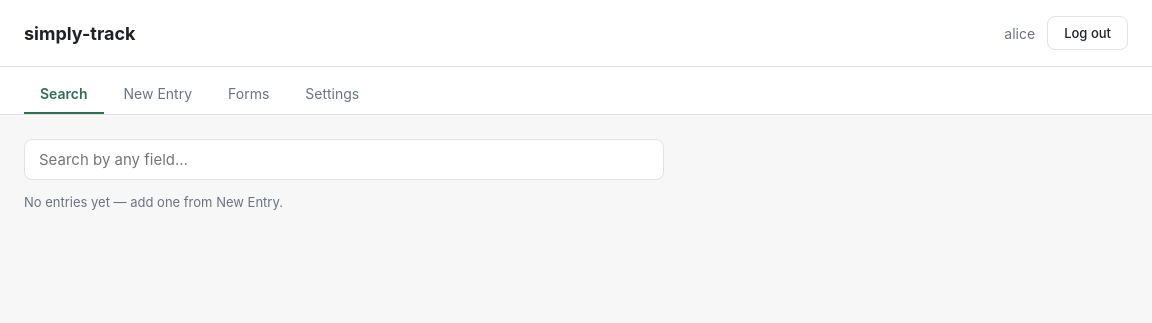
Test: Dashboard › switches sections when a nav tab is clicked
The width and height of the screenshot is (1152, 323).
Click the button "New Entry" at (158, 94), box [108,75,208,114]
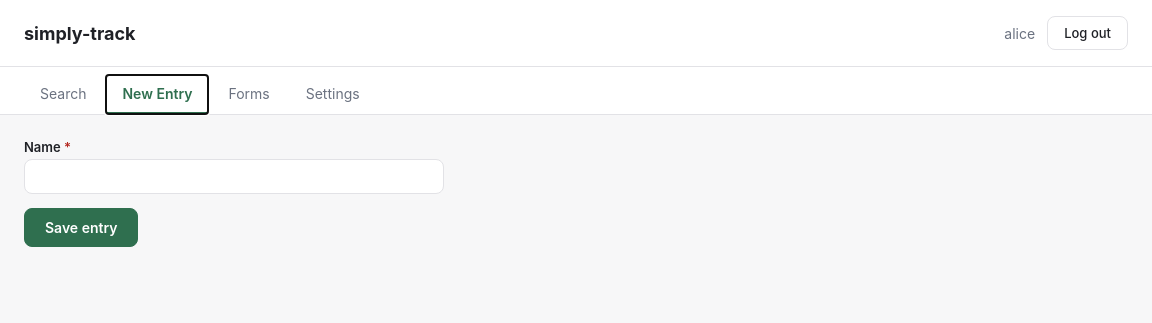
expect the field labelled "Name *" is shown: met, box [24,159,444,194]
Click the button "Forms" at (249, 94), box [212,75,286,114]
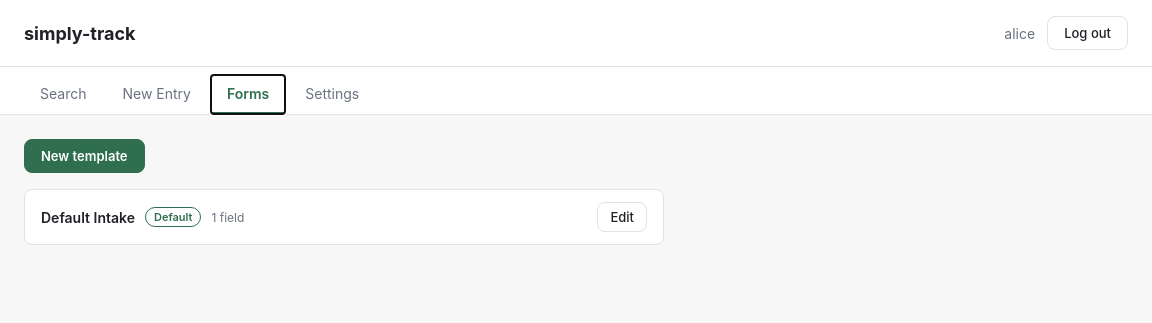
expect the button "New template" is shown: met, box [24,139,144,173]
expect the text "Default Intake" is shown: met, box [41,208,135,226]
Click the button "Settings" at (332, 94), box [289,75,375,114]
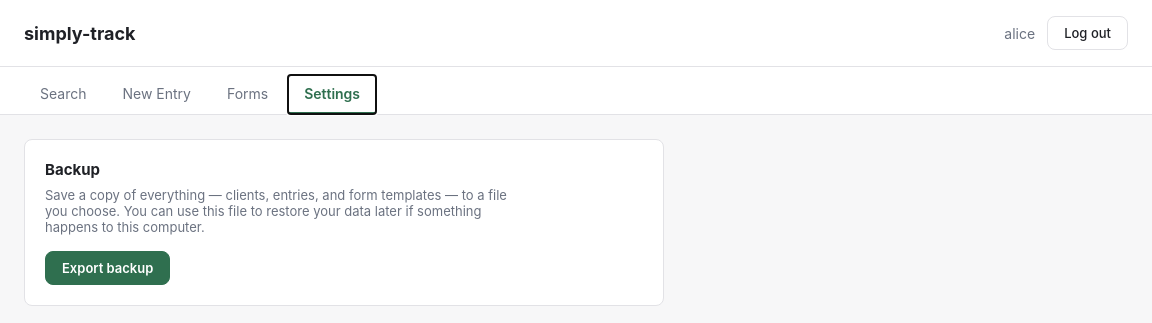
expect the button "Export backup" is shown: met, box [45,251,170,285]
